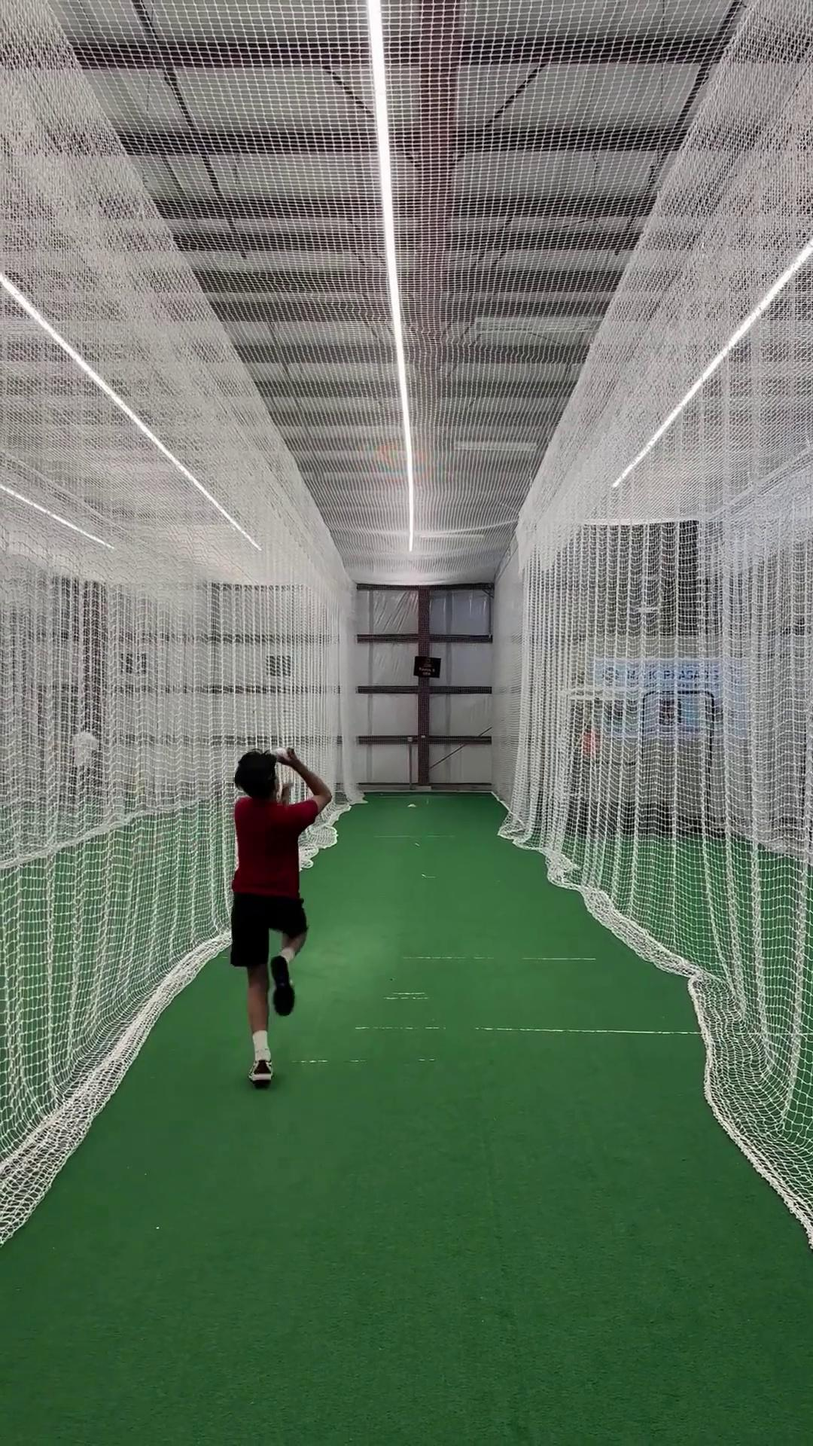ball: (273, 743, 291, 764)
